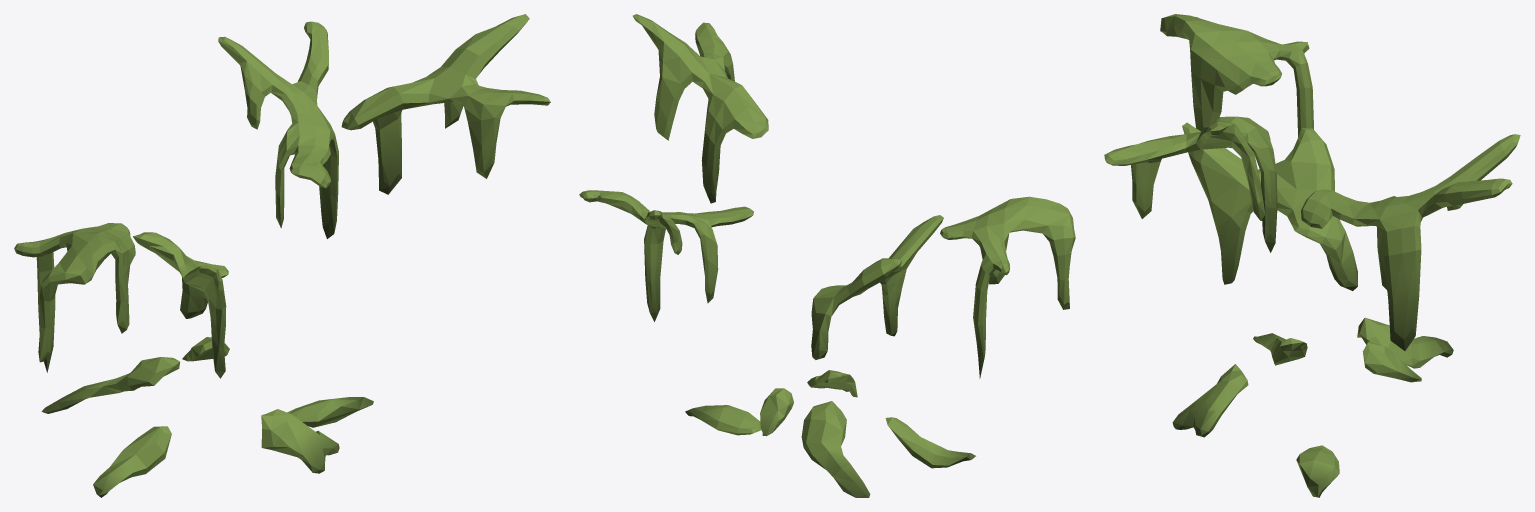
The model's file is Jungle_Tree_Dead_A_Grass.fbx.
The picture shows the model from 3 angles, left to right: view 1: azimuth 30°, elevation 25°; view 2: azimuth 150°, elevation 25°; view 3: azimuth 270°, elevation 25°; orthographic projection. The views are drawn at different scales.
Visible parts, largest first — view 1: Jungle_Tree_Dead_A_Grass; view 2: Jungle_Tree_Dead_A_Grass; view 3: Jungle_Tree_Dead_A_Grass.
Boxes of the visible parts, x1,y1,x2,y2 form: Jungle_Tree_Dead_A_Grass: (14,14,550,497); Jungle_Tree_Dead_A_Grass: (579,14,1075,497); Jungle_Tree_Dead_A_Grass: (1104,14,1520,497).
Size of the model in its own units: 7.34 by 5.7 by 4.99.
